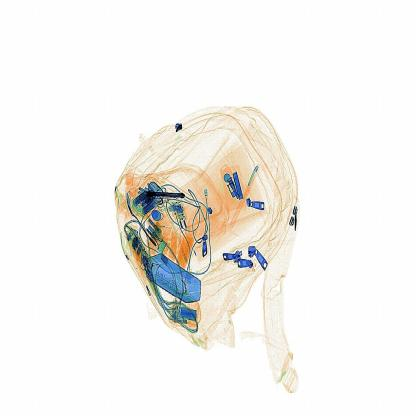knife: (144, 188, 189, 202)
